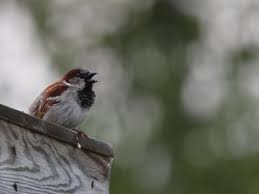hsparrow: (21, 65, 105, 149)
